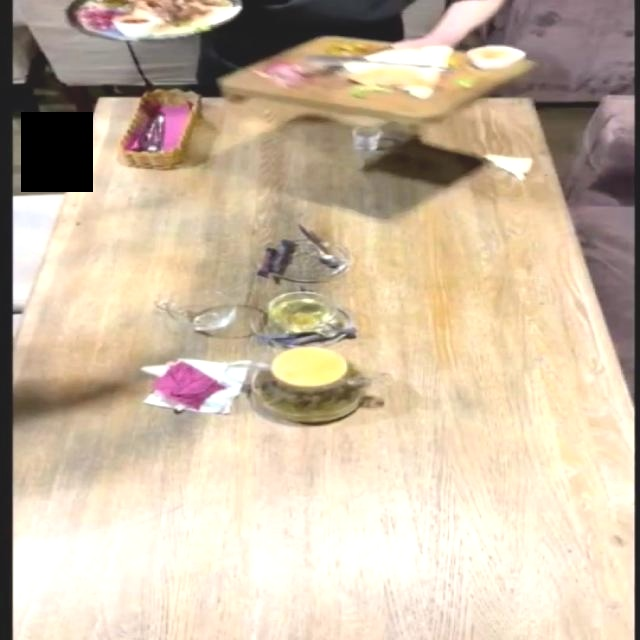meat: (216, 34, 538, 127), (46, 2, 248, 41)
tea: (233, 339, 360, 434)
